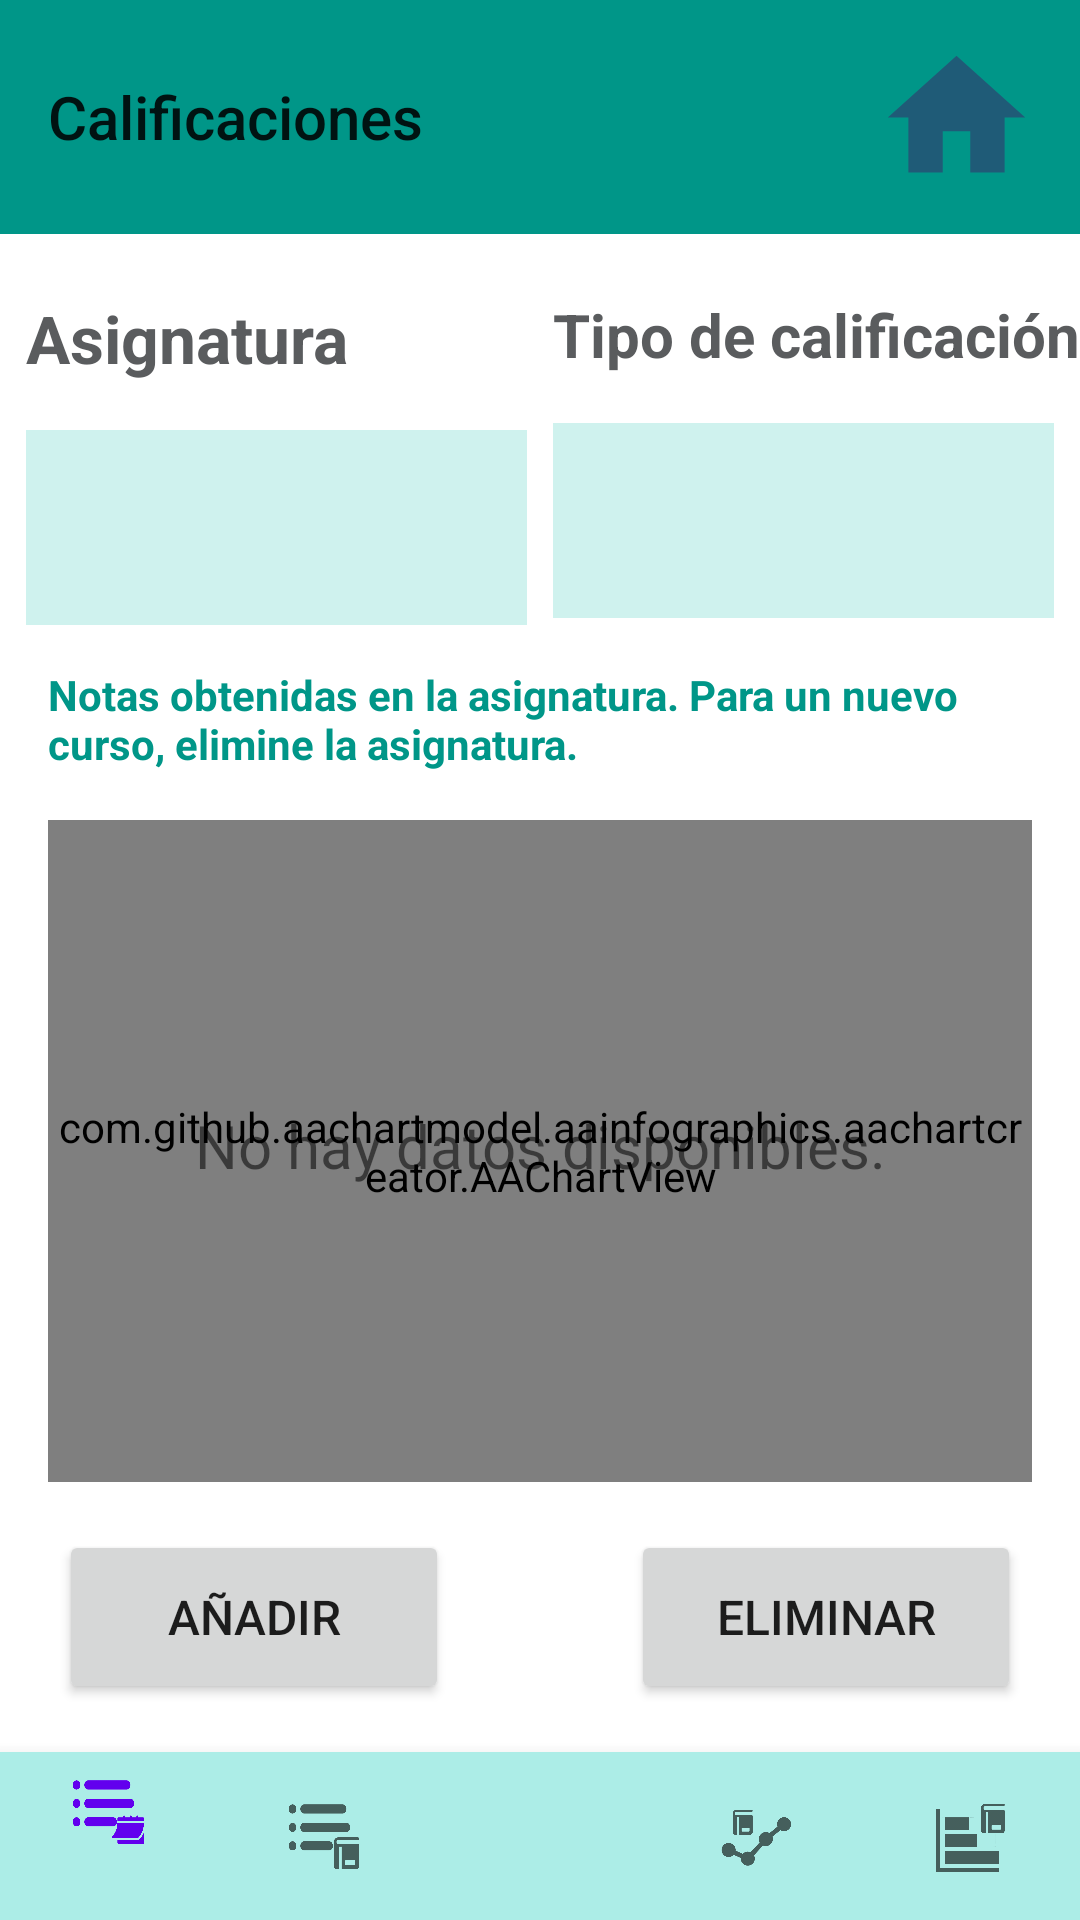

Where to tap for icons on this 1080x1920 app screen, as (x,y):
home: (956,114)
